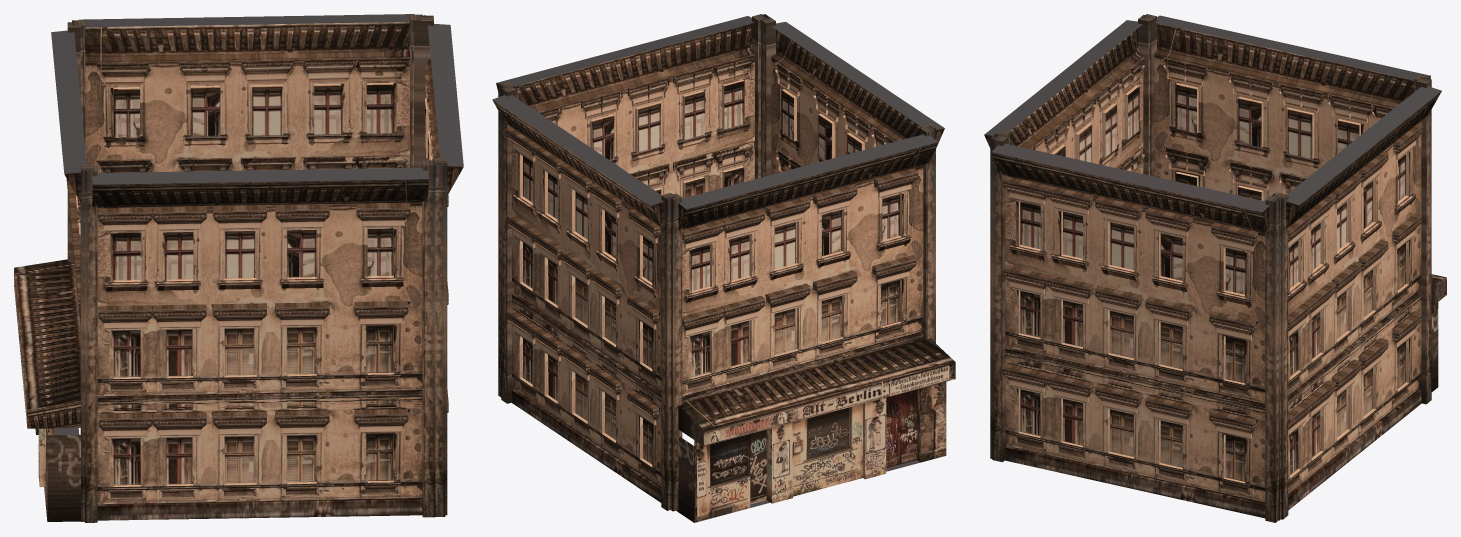
3 views of the same model, side by side, from view 1: azimuth 30°, elevation 25°; view 2: azimuth 150°, elevation 25°; view 3: azimuth 270°, elevation 25° (orthographic). The views are drawn at different scales.
Visible parts, largest first — view 1: Plane.025_Material.002_0; view 2: Plane.025_Material.002_0; view 3: Plane.025_Material.002_0.
Part boxes in pixels (x1,y1,x2,y2): Plane.025_Material.002_0: (14,14,463,522); Plane.025_Material.002_0: (492,14,955,522); Plane.025_Material.002_0: (984,14,1446,522).
Size of the model in its own units: 3.56 by 2.56 by 3.32.
1 material, 1 textured.
